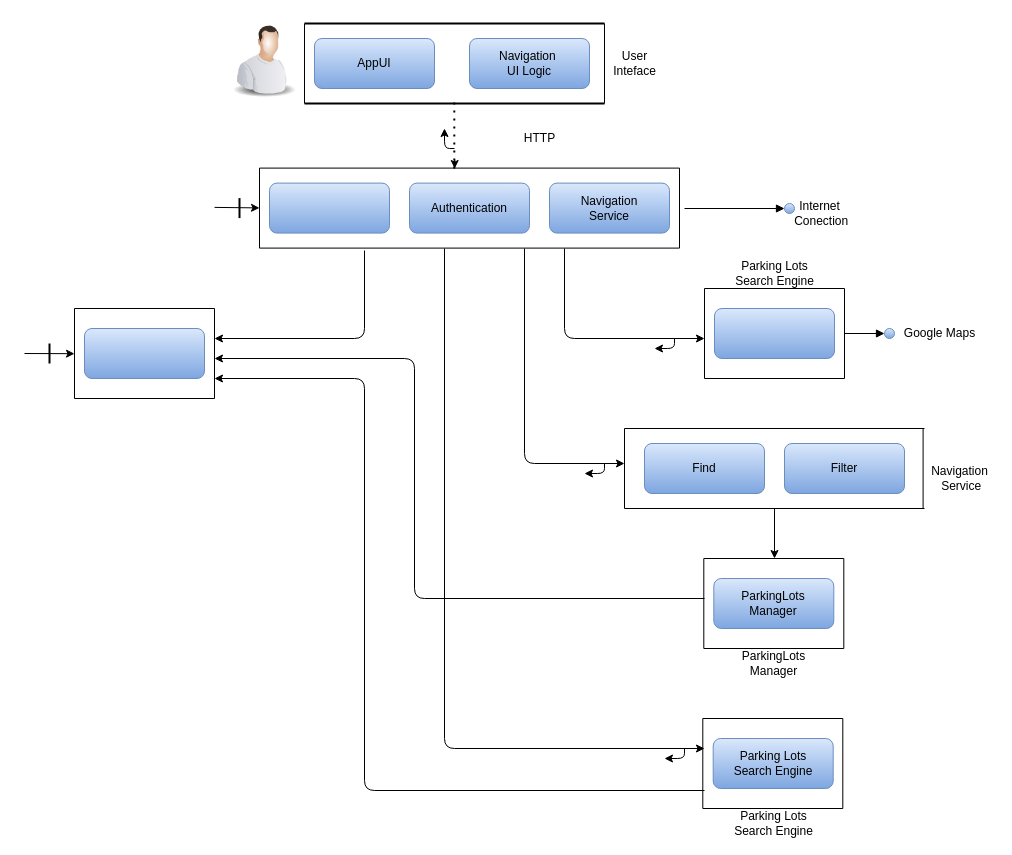
This 1012x855 diagram has some shape labels left out. Each missing label, with the centre of its shape:
Database: [144,353]
Parking Lots: [774,333]
Security Service: [329,207]
